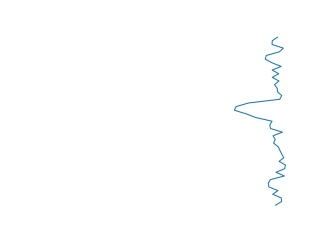interdistributaryEstuary: (229, 37, 294, 205)
